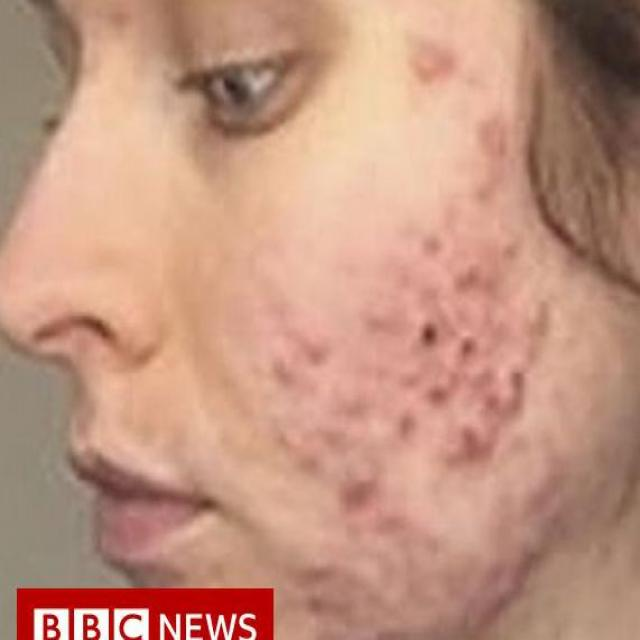blackheads: (402, 24, 450, 86), (338, 455, 379, 509), (453, 403, 486, 463), (475, 108, 510, 164), (295, 326, 332, 370), (284, 554, 332, 587), (456, 257, 487, 292), (418, 225, 448, 260), (392, 403, 417, 442), (270, 346, 294, 384), (526, 298, 552, 333), (498, 225, 524, 259), (457, 329, 479, 366), (421, 317, 438, 360), (369, 300, 390, 333)
